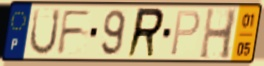9: (100, 8, 128, 57)
F: (55, 8, 93, 57)
H: (198, 6, 239, 62)
P: (169, 9, 202, 58)
R: (125, 6, 167, 60)
U: (28, 7, 63, 58)
